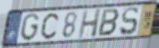8: (61, 11, 78, 39)
B: (97, 8, 121, 37)
C: (40, 12, 60, 40)
G: (19, 13, 41, 43)
H: (77, 7, 103, 40)
S: (119, 6, 140, 37)
